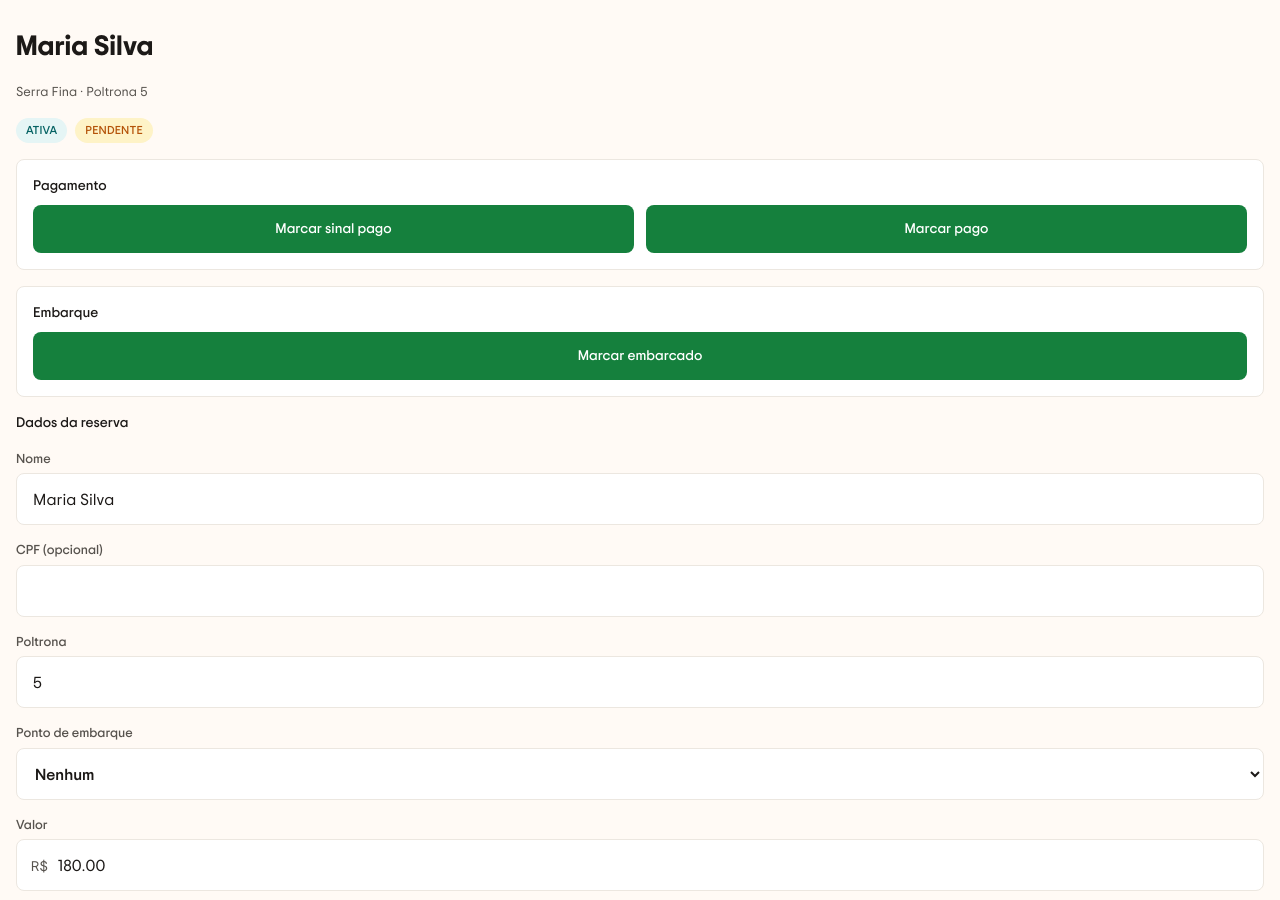
Test: ReservaDetalhePage › marca sinal pago com 1 toque
Expected: the heading "Maria Silva" is shown, [16, 26, 154, 64]
Click the button "Marcar sinal pago": (334, 229) [33, 205, 634, 253]
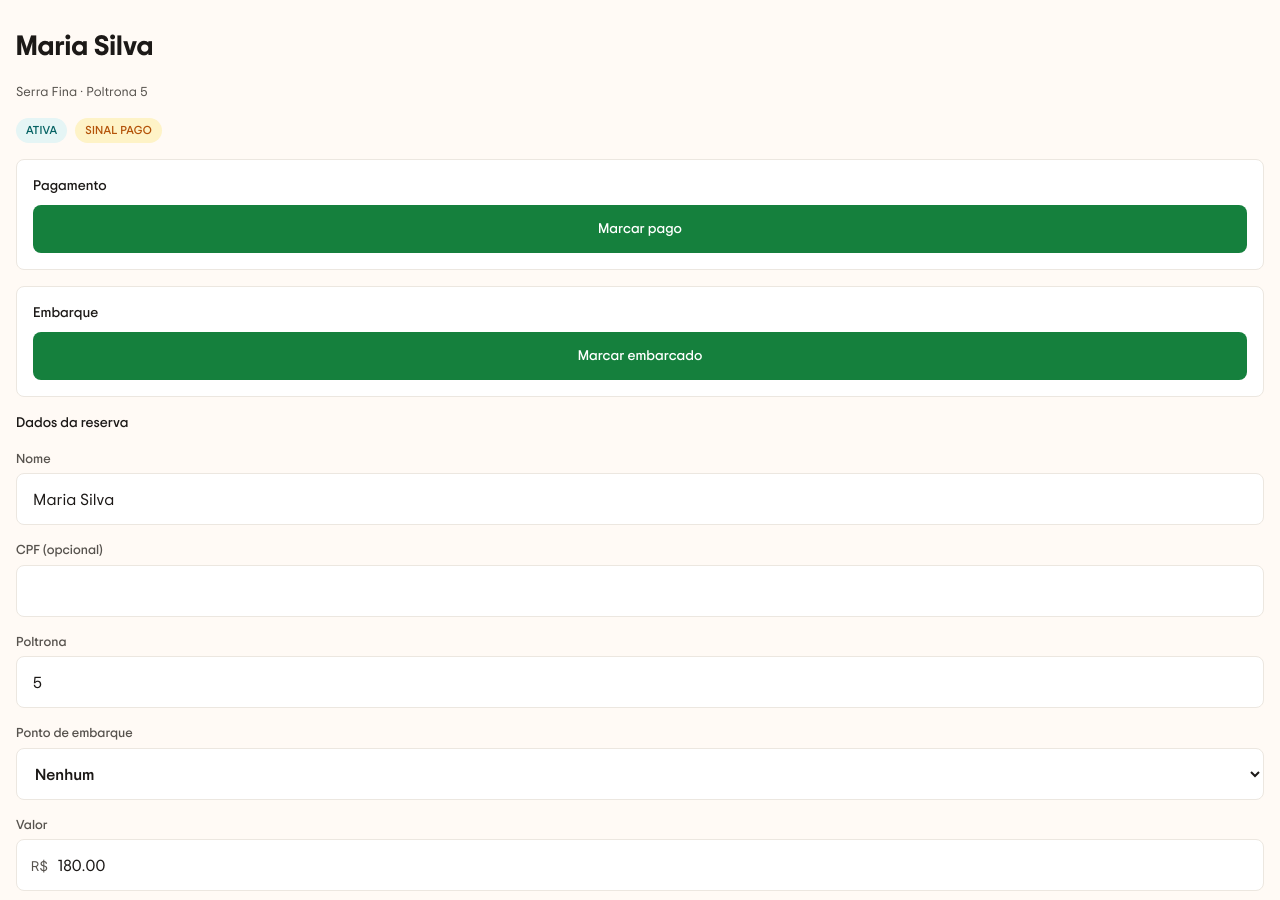
Expected: the text "Sinal pago" is shown, [75, 118, 162, 143]
